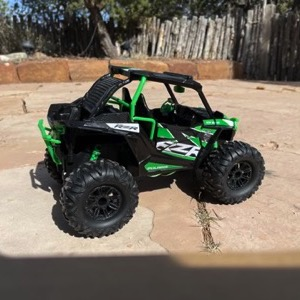polaris: (38, 61, 267, 246)
